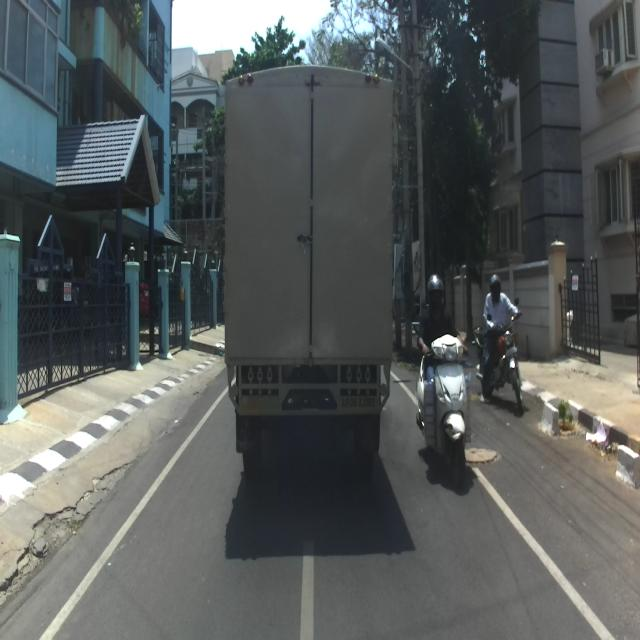motorcycle ahead at: (414, 312, 475, 503)
truck ahead at: (220, 64, 394, 464)
